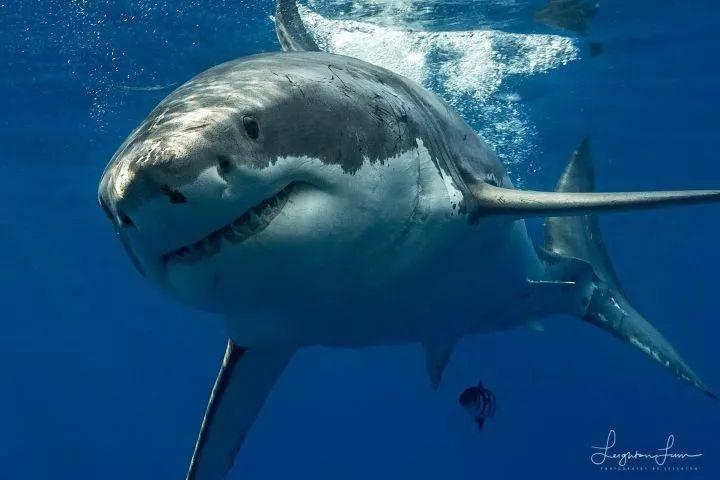fish: (94, 1, 720, 473)
